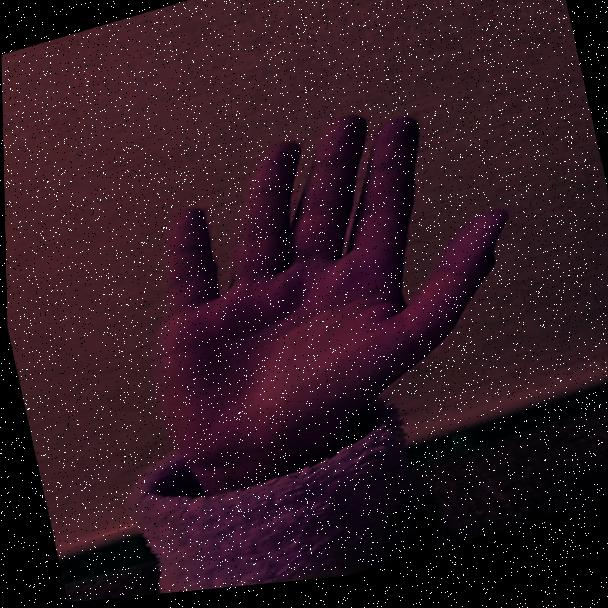five: (35, 61, 578, 569)
